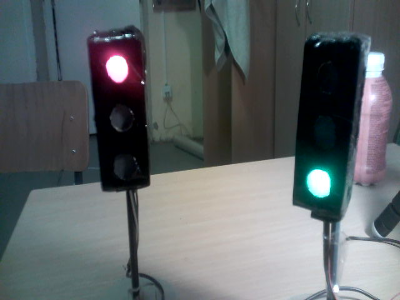trafficlight_green: (298, 46, 354, 204)
trafficlight_red: (95, 38, 146, 190)
